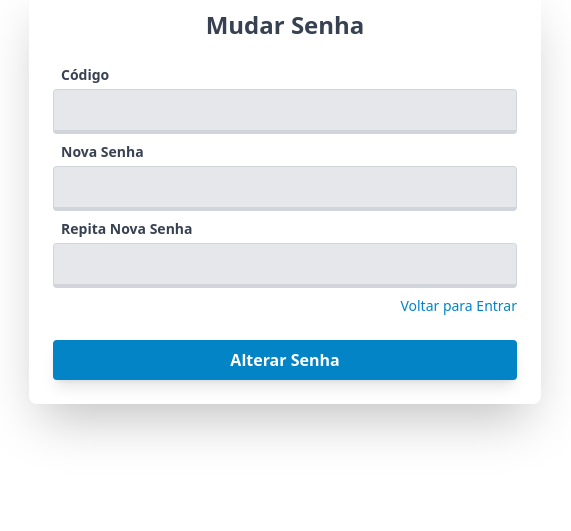
Test: ChangePassword › should not submit when password are not equal
Type "123" into the field with id "code".
click(285, 112); type("123")  # box [53,89,517,134]
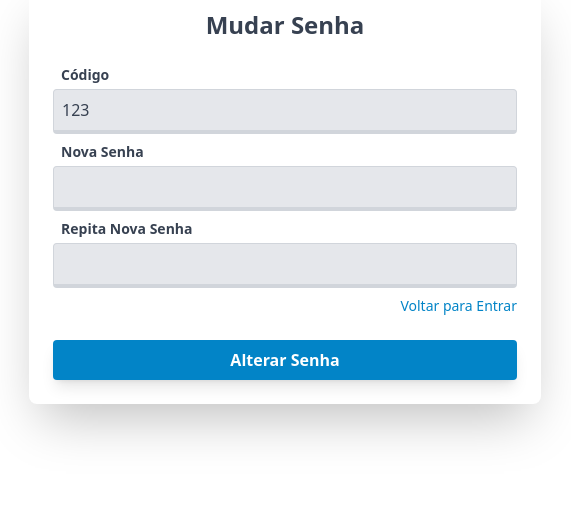
Type "456" into the password field with id "newpassword".
click(285, 188); type("456")  # box [53,166,517,211]
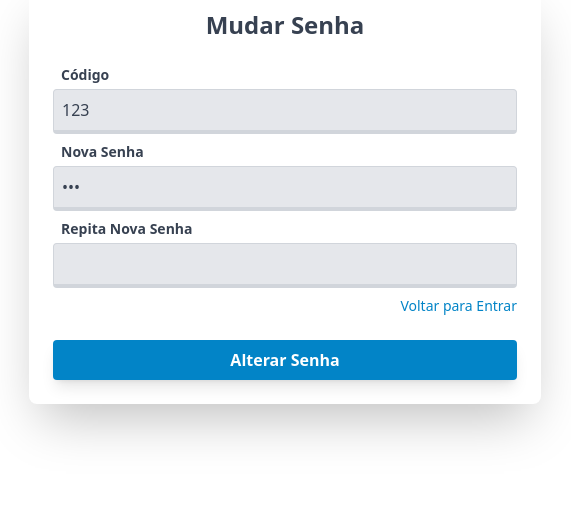
Type "789" into the password field with id "repeatnewpassword".
click(285, 266); type("789")  # box [53,243,517,288]
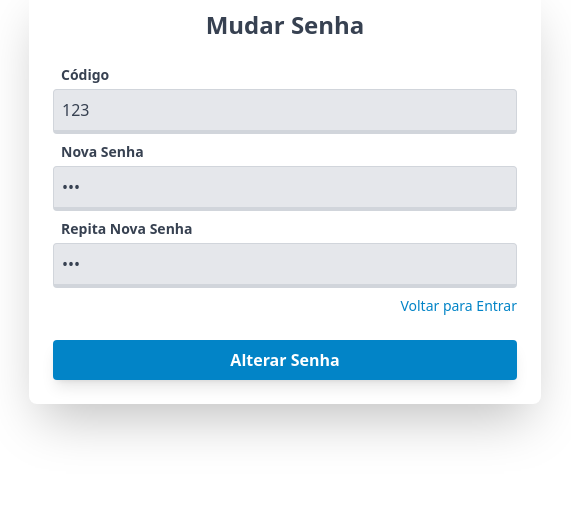
Click the button "Alterar Senha".
click(285, 360)  # box [53,340,517,380]
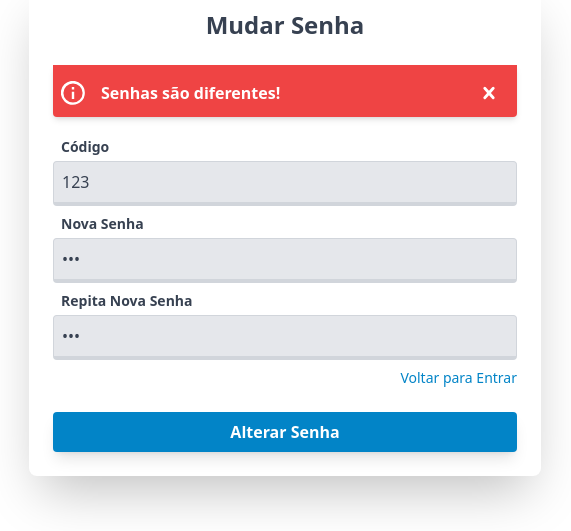
Expected: the text "Senhas são diferentes!" is shown, [101,77,280,109]
